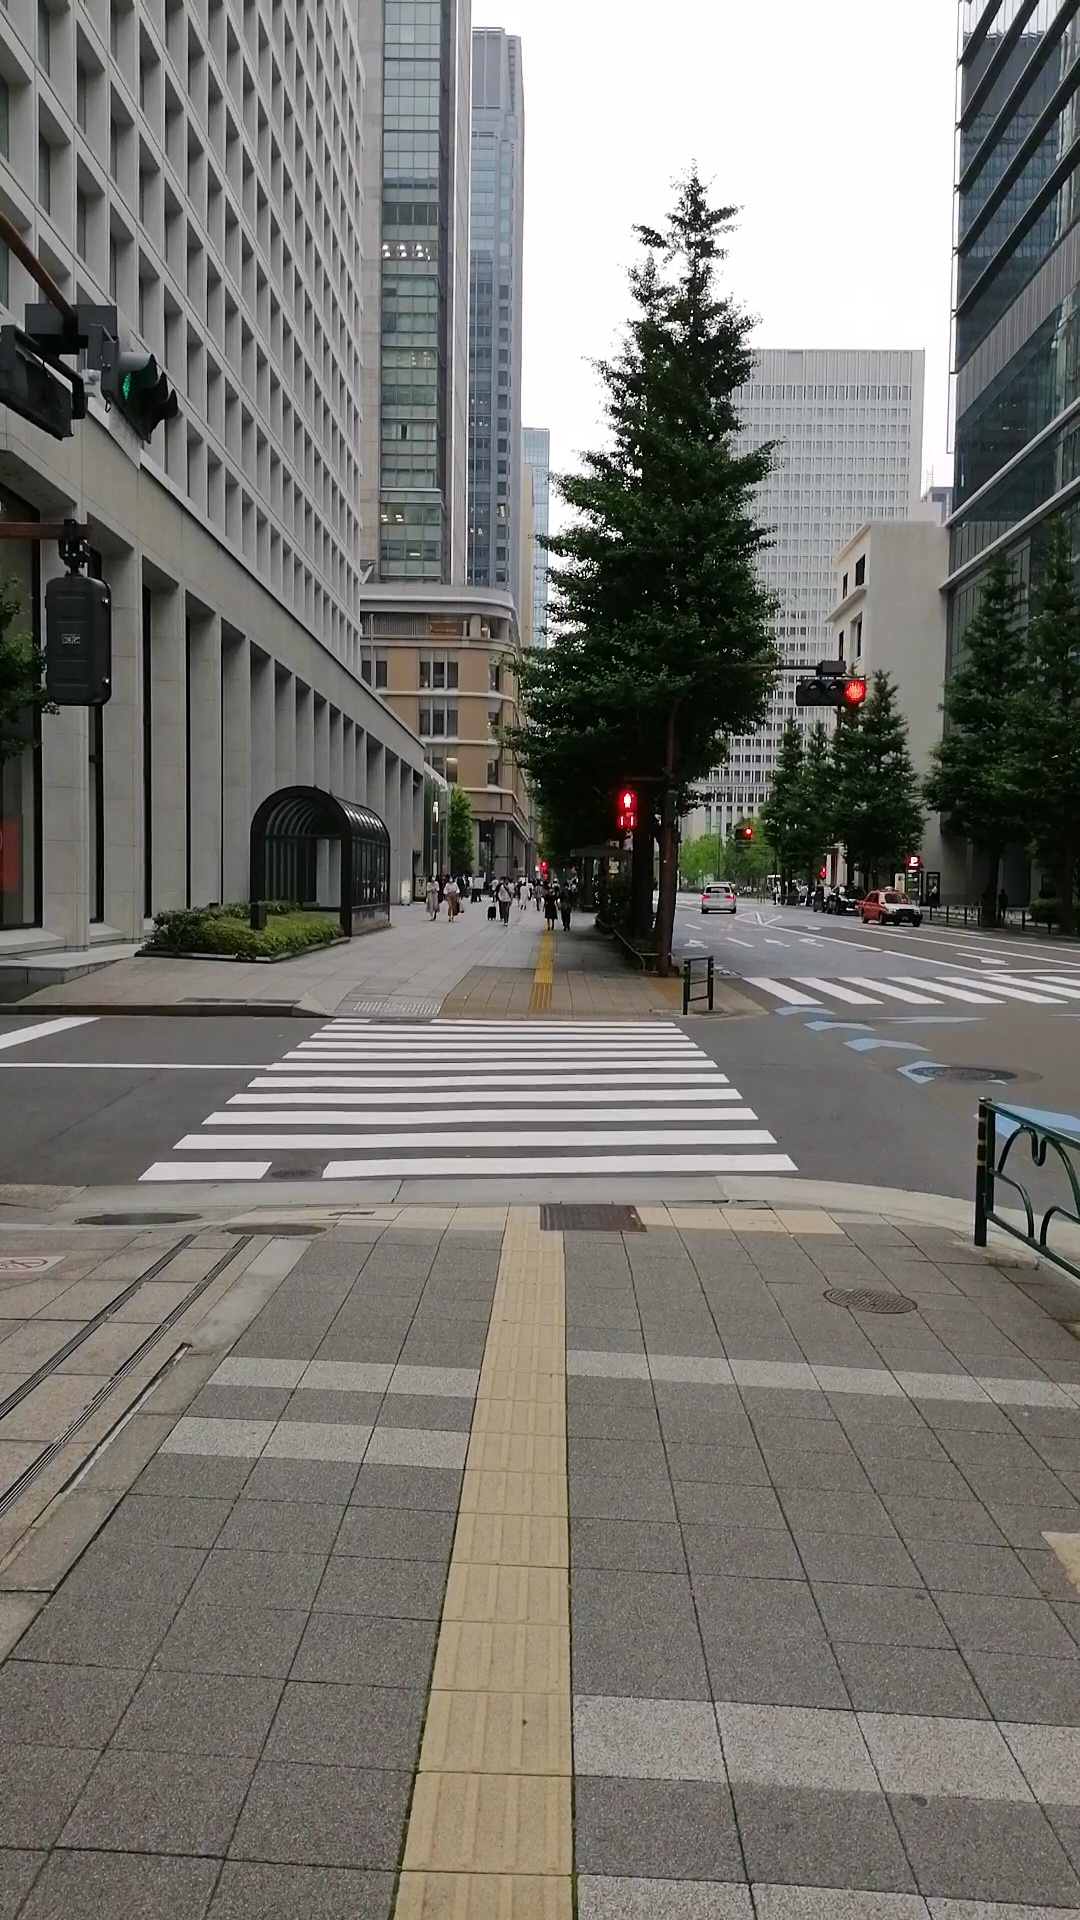red: (615, 785, 640, 833)
